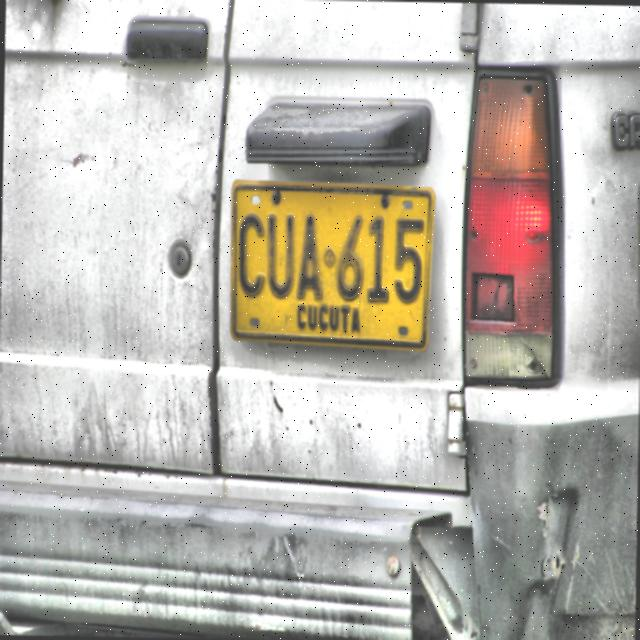1: (364, 214, 394, 306)
5: (392, 214, 424, 305)
6: (334, 213, 366, 302)
A: (296, 212, 324, 302)
C: (236, 211, 267, 298)
U: (264, 210, 298, 300)
